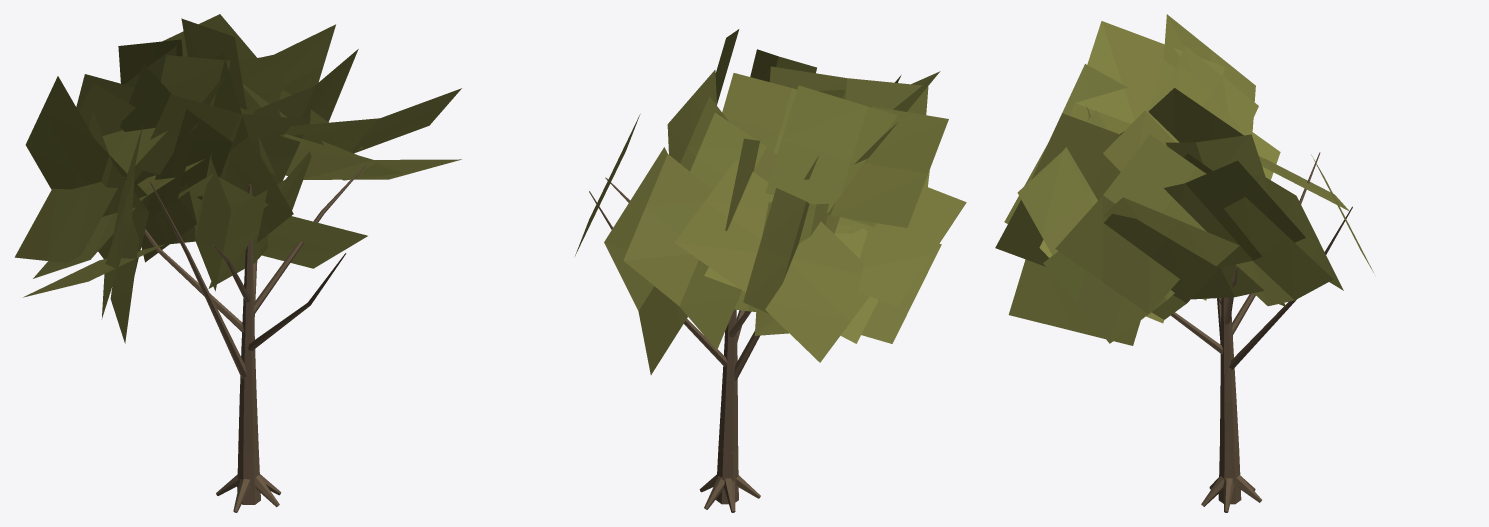
File: medium_aspen.glb
The picture shows the model from 3 angles, left to right: view 1: azimuth 30°, elevation 25°; view 2: azimuth 150°, elevation 25°; view 3: azimuth 270°, elevation 25°; orthographic projection. The views are drawn at different scales.
Visible parts, largest first — view 1: world-scenery/medium_aspen; view 2: world-scenery/medium_aspen; view 3: world-scenery/medium_aspen.
Boxes of the visible parts, x1,y1,x2,y2 form: world-scenery/medium_aspen: [14, 14, 461, 512]; world-scenery/medium_aspen: [575, 29, 966, 512]; world-scenery/medium_aspen: [995, 14, 1373, 512].
Size of the model in its own units: 4.14 by 4.38 by 4.31.
